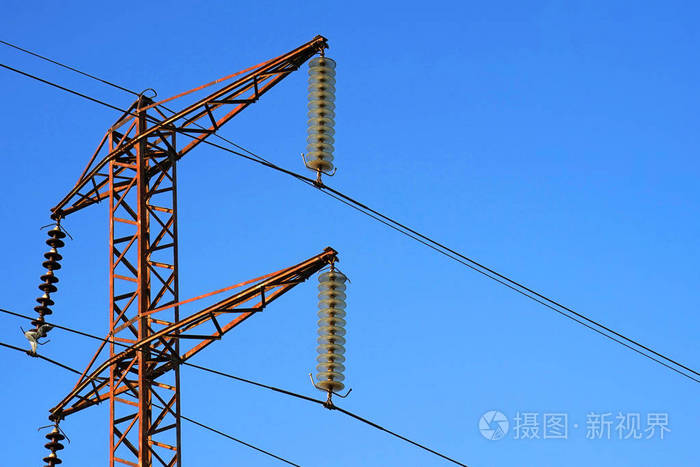insulator: (303, 55, 341, 172), (314, 270, 349, 391), (30, 228, 64, 329), (38, 430, 68, 467)
